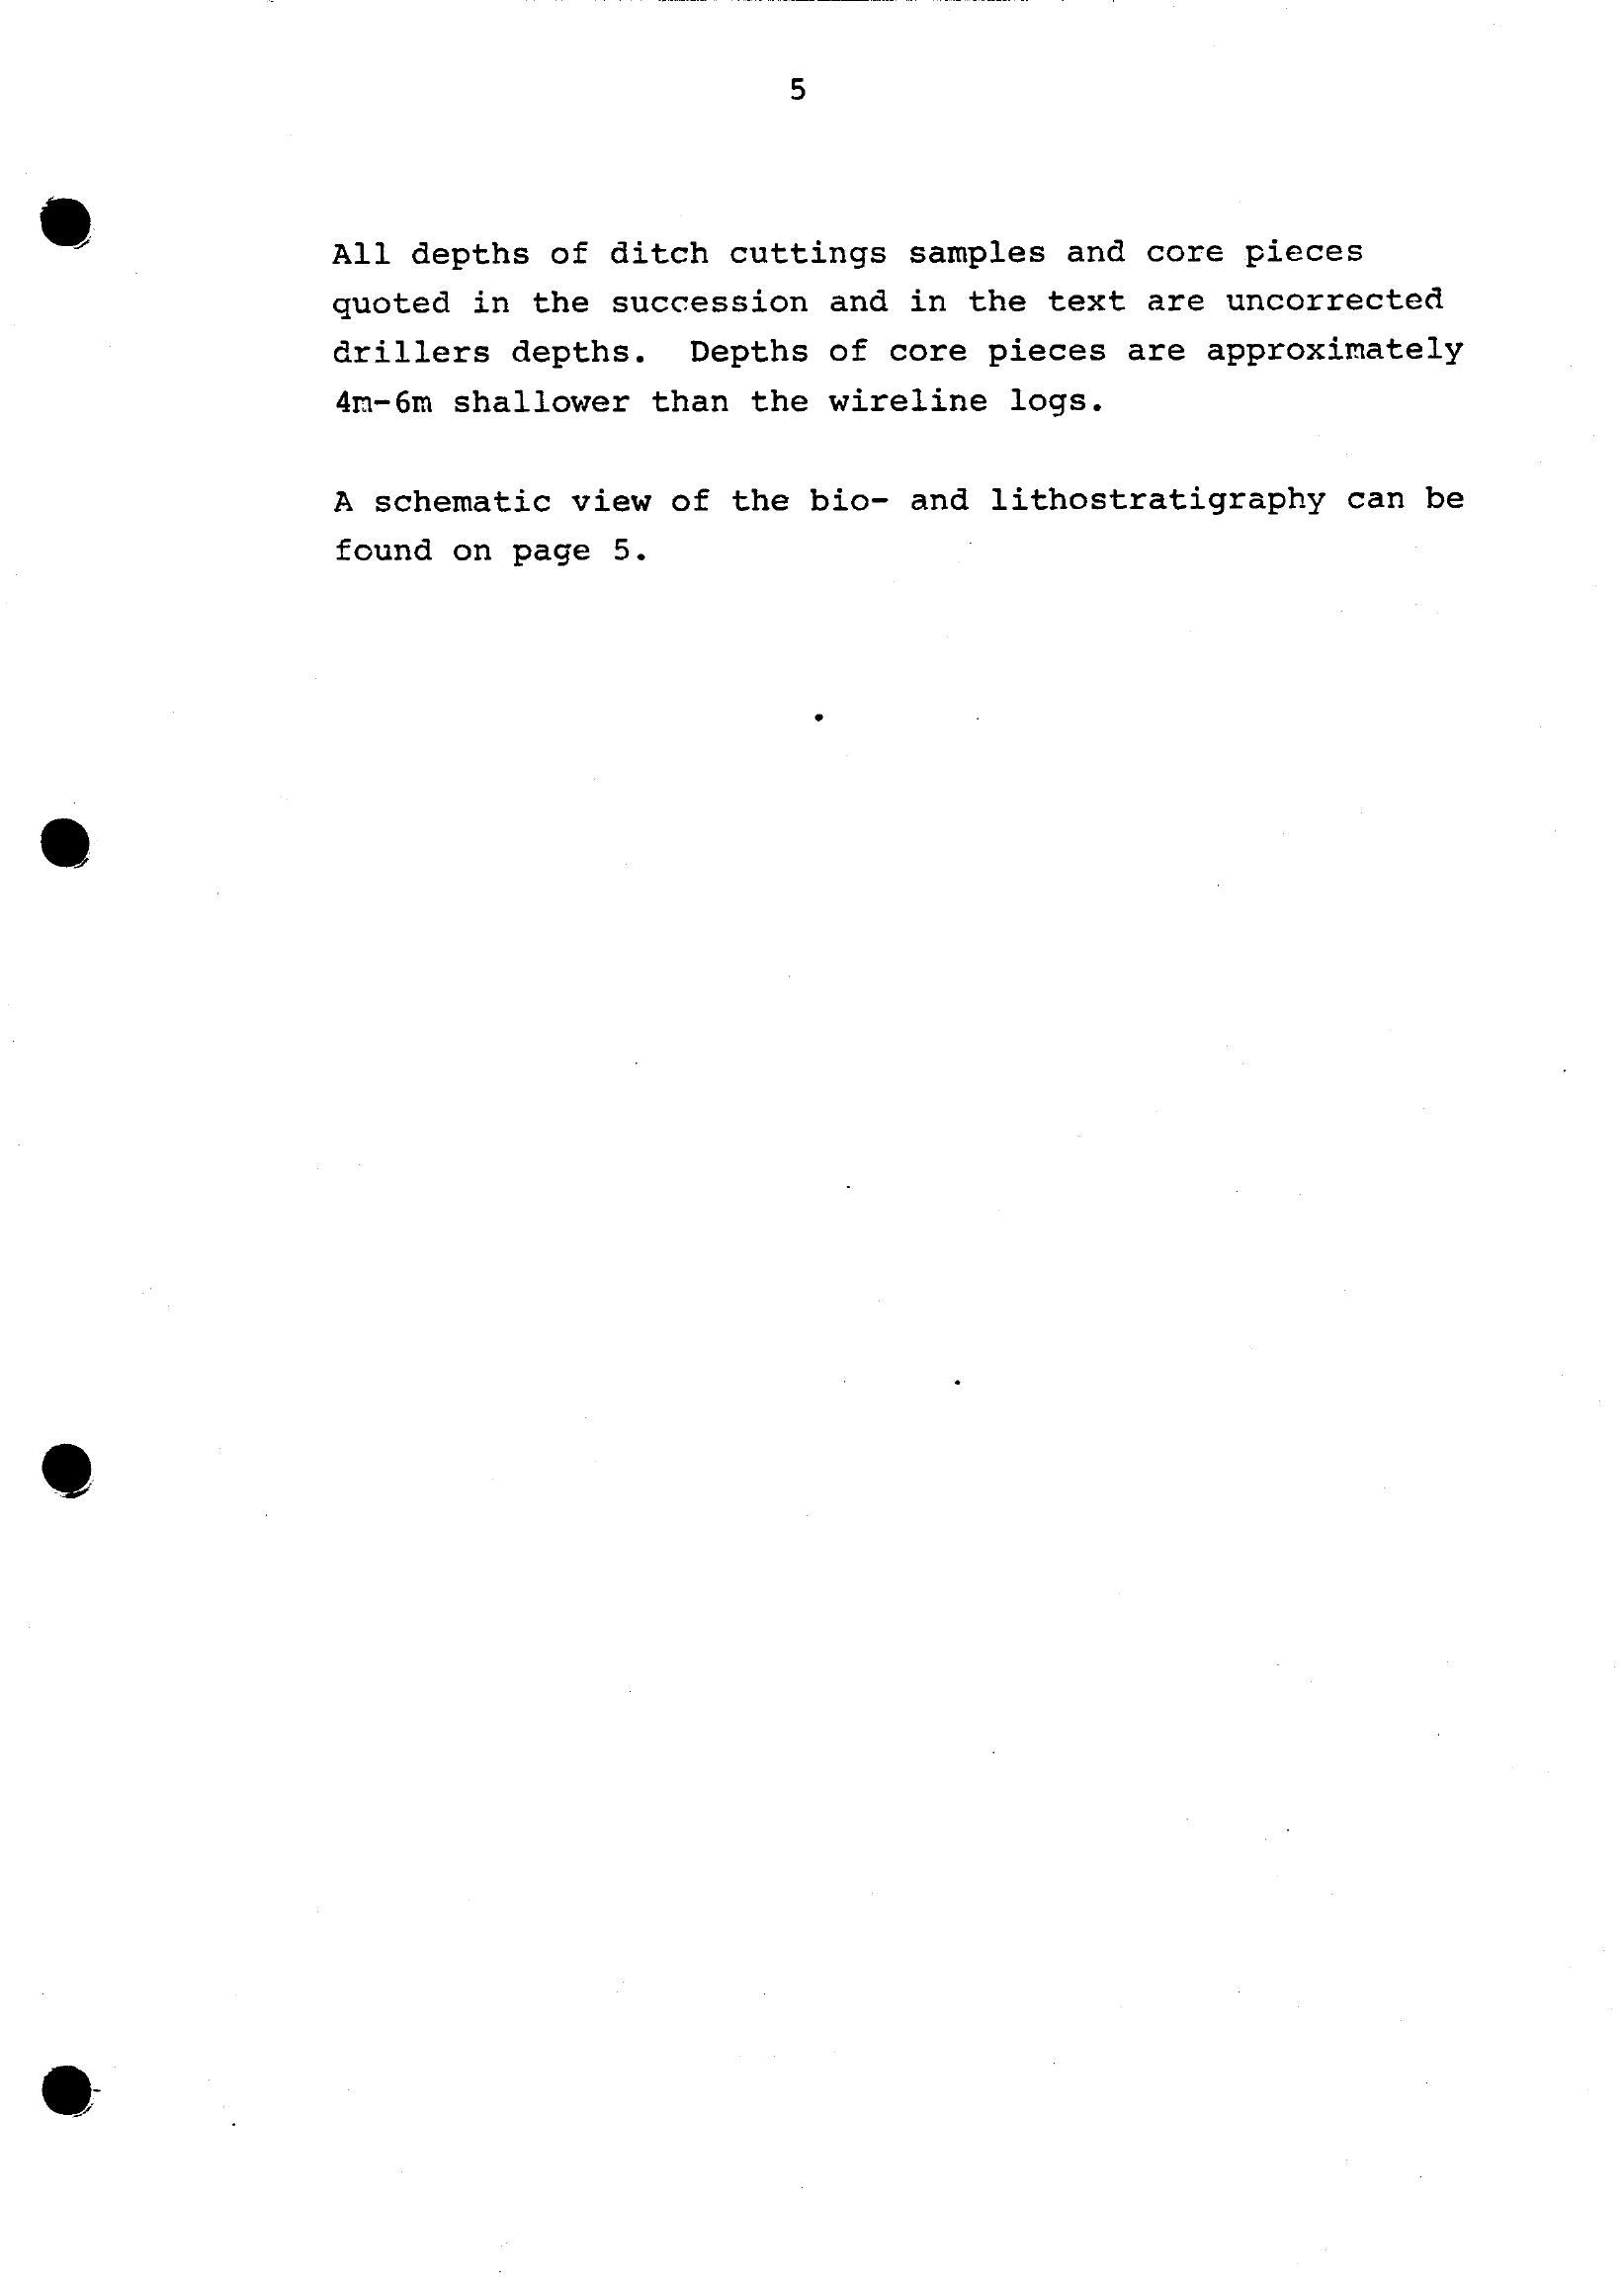text: (286, 218, 1506, 599)
